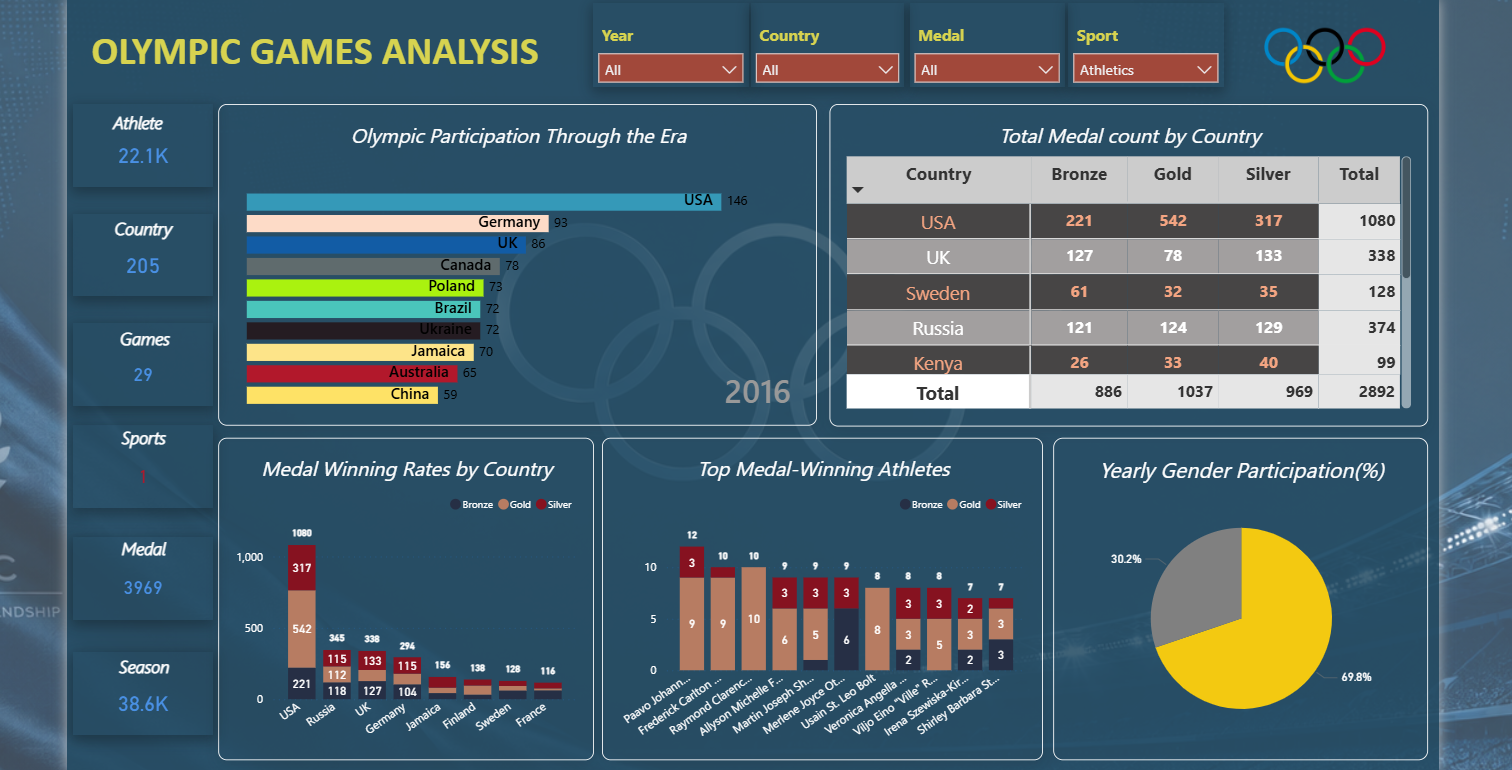

This screenshot's page, from the dashboard's own definition file:
{"tool":"powerbi","page":{"name":"Dashboard","canvas":[1280,720],"ordinal":0},"visuals":[{"type":"image","box":[1077.4,3.6,191.8,78.4],"z":0},{"type":"textbox","box":[6,6,458.4,76],"z":1000},{"type":"card","fields":{"Values":["Count(athlete_events.Name)"]},"box":[6,97.7,130.3,77.2],"z":2000},{"type":"textbox","box":[1.2,103.8,130.3,32.6],"z":3000},{"type":"card","fields":{"Values":["Count(athlete_events.Country)"]},"box":[6,200.3,130.3,77],"z":4000},{"type":"textbox","box":[24.1,202.7,92.9,36.2],"z":5000},{"type":"card","fields":{"Values":["Count(athlete_events.Games)"]},"box":[6,301.6,130.3,77.2],"z":6000},{"type":"textbox","box":[6,501.9,131.5,35],"z":7000},{"type":"card","fields":{"Values":["Count(athlete_events.Sport)"]},"box":[6,398.1,130.3,77.2],"z":8000},{"type":"textbox","box":[20.5,398.1,101.3,36.2],"z":9000},{"type":"slicer","title":"years","fields":{"Values":["athlete_events.Year.Variation.Date Hierarchy.Year"]},"box":[491,3.6,144.8,78.4],"z":10000},{"type":"slicer","fields":{"Values":["athlete_events.Country"]},"box":[638.2,3.6,143.6,78.4],"z":11000},{"type":"slicer","fields":{"Values":["athlete_events.Medal"]},"box":[785.4,3.6,144.8,78.4],"z":12000},{"type":"wishyoulizationbarchartrace","title":"Olympic Participation Through the Era","fields":{"name":["athlete_events.Country"],"value":["athlete_events.Medal"],"year":["athlete_events.Year.Variation.Date Hierarchy.Year"]},"box":[141.2,97.7,558.6,300],"z":13000},{"type":"columnChart","title":"Medal Winning Rates by Country","fields":{"Series":["athlete_events.Medal"],"Y":["CountNonNull(athlete_events.Medal)"],"Category":["athlete_events.Country"]},"box":[141.2,409,350,300.4],"z":14000},{"type":"slicer","fields":{"Values":["athlete_events.Sport"]},"box":[933.8,3.6,144.8,78.4],"z":15000},{"type":"columnChart","title":"Top Medal-Winning Athletes","fields":{"Category":["athlete_events.Name"],"Y":["CountNonNull(athlete_events.Sport)"],"Series":["athlete_events.Medal"]},"box":[499.5,409,411.4,300.4],"z":16000},{"type":"pivotTable","title":"Total Medal count by Country","fields":{"Columns":["athlete_events.Medal"],"Values":["CountNonNull(athlete_events.Medal)"],"Rows":["athlete_events.Country"]},"box":[710.6,97.7,558.6,300.4],"z":17000},{"type":"pieChart","title":"Yearly Gender Participation(%)","fields":{"Y":["CountNonNull(athlete_events.Gender)"],"Category":["athlete_events.Gender"]},"box":[919.3,409,349.9,300.4],"z":18000},{"type":"card","fields":{"Values":["CountNonNull(athlete_events.Medal)"]},"box":[6,501.9,130.3,77.2],"z":19000},{"type":"card","fields":{"Values":["CountNonNull(athlete_events.Season)"]},"box":[6,608,130.3,77.2],"z":20000},{"type":"textbox","box":[25.3,610.5,92.9,36.2],"z":21000},{"type":"textbox","box":[7.2,305.2,131.5,35],"z":22000}]}

Visuals, with their boxes on the page's 1280x720 design canvas (x1, y1, x2, y2). These are canvas units, not pixel positions in the 1512x770 screenshot, which may show the page scaled, cropped or inside an application window:
image: 1077, 4, 1269, 82
textbox: 6, 6, 464, 82
card - Count(athlete_events.Name): 6, 98, 136, 175
textbox: 1, 104, 132, 136
card - Count(athlete_events.Country): 6, 200, 136, 277
textbox: 24, 203, 117, 239
card - Count(athlete_events.Games): 6, 302, 136, 379
textbox: 6, 502, 138, 537
card - Count(athlete_events.Sport): 6, 398, 136, 475
textbox: 20, 398, 122, 434
"years" slicer: 491, 4, 636, 82
slicer - athlete_events.Country: 638, 4, 782, 82
slicer - athlete_events.Medal: 785, 4, 930, 82
"Olympic Participation Through the Era" wishyoulizationbarchartrace: 141, 98, 700, 398
"Medal Winning Rates by Country" columnChart: 141, 409, 491, 709
slicer - athlete_events.Sport: 934, 4, 1079, 82
"Top Medal-Winning Athletes" columnChart: 500, 409, 911, 709
"Total Medal count by Country" pivotTable: 711, 98, 1269, 398
"Yearly Gender Participation(%)" pieChart: 919, 409, 1269, 709
card - CountNonNull(athlete_events.Medal): 6, 502, 136, 579
card - CountNonNull(athlete_events.Season): 6, 608, 136, 685
textbox: 25, 610, 118, 647
textbox: 7, 305, 139, 340
